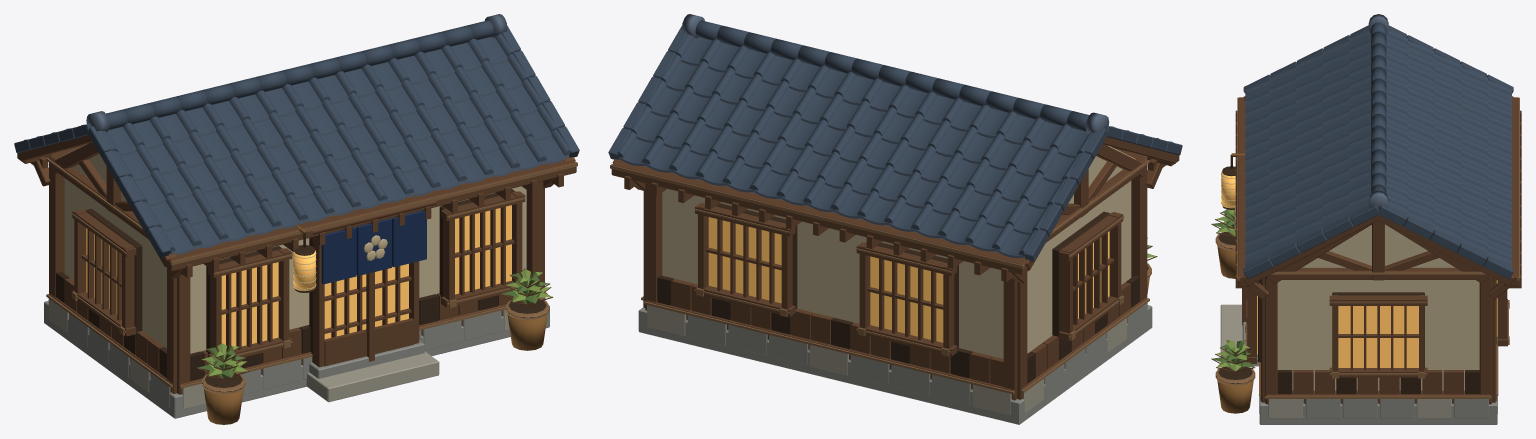
3 renders of one model, left to right at view 1: azimuth 30°, elevation 25°; view 2: azimuth 150°, elevation 25°; view 3: azimuth 270°, elevation 25°, orthographic. The views are drawn at different scales.
Parts seen in each view (by area): view 1: compact_villa_1_geometry, compact_villa_1_geometry ceramic; view 2: compact_villa_1_geometry, compact_villa_1_geometry ceramic; view 3: compact_villa_1_geometry, compact_villa_1_geometry ceramic.
Part boxes in pixels (box(x1,y1,x2,y2)): compact_villa_1_geometry: box(17, 37, 577, 424); compact_villa_1_geometry ceramic: box(14, 14, 579, 258); compact_villa_1_geometry: box(610, 38, 1179, 424); compact_villa_1_geometry ceramic: box(608, 14, 1182, 261); compact_villa_1_geometry: box(1211, 48, 1521, 424); compact_villa_1_geometry ceramic: box(1243, 14, 1513, 279).
Bounding box in the file's own units: 0.99 × 0.5906 × 0.701.
